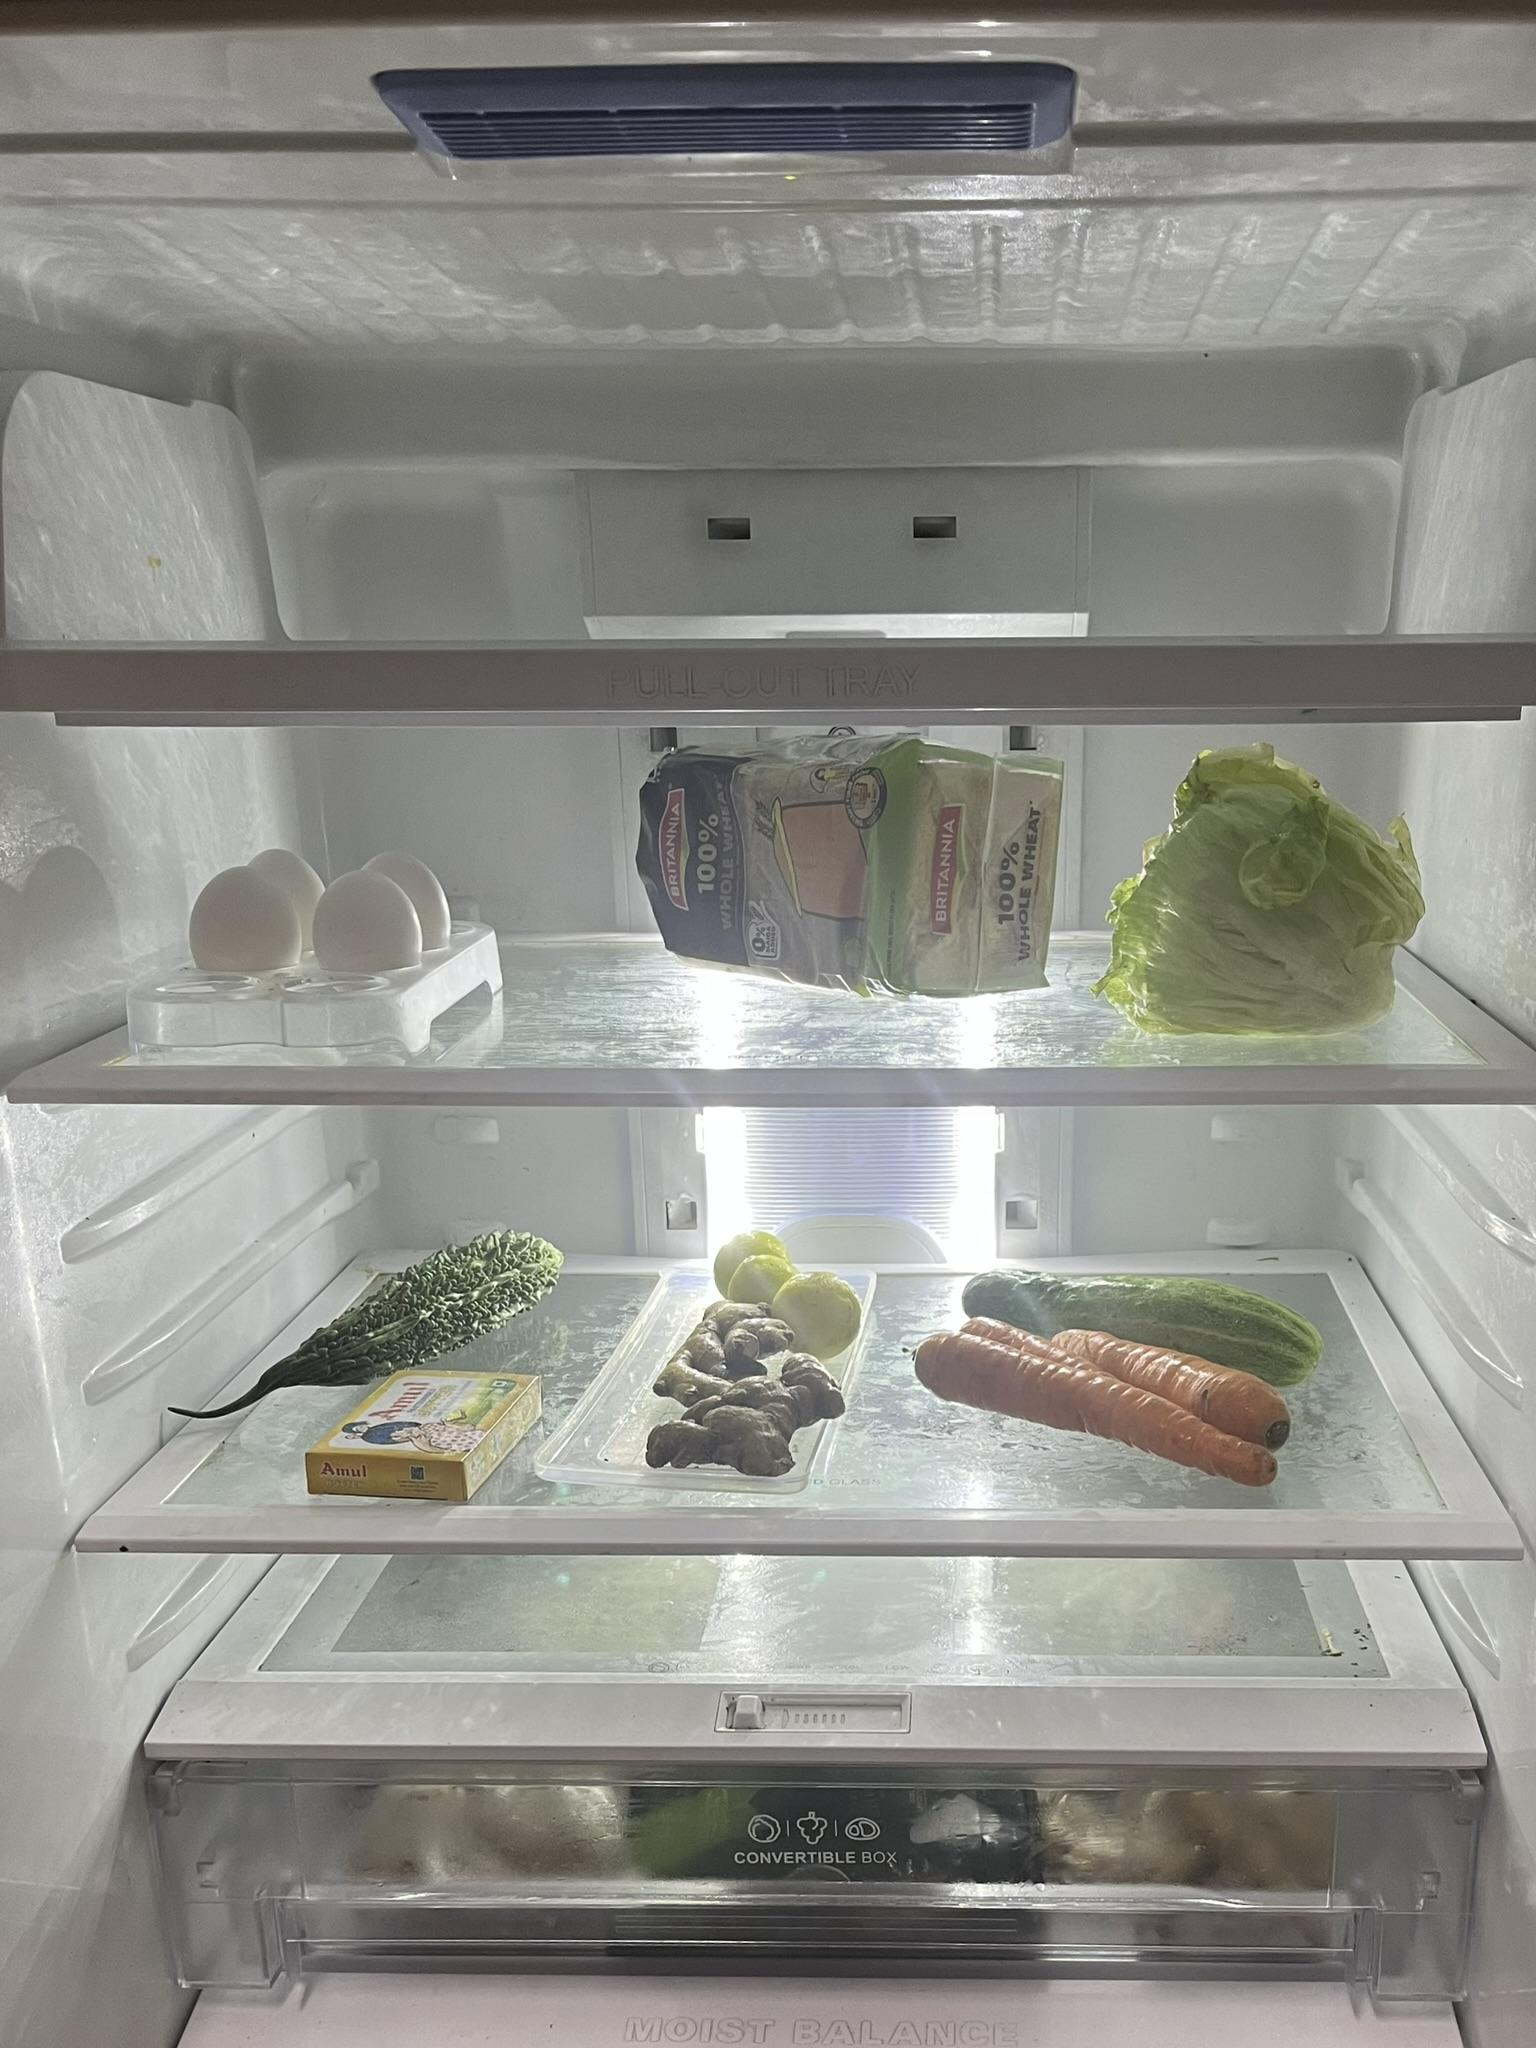bitter gaurd: (187, 1224, 563, 1427)
bread: (623, 727, 1070, 1003)
butter: (307, 1359, 544, 1509)
carrots: (913, 1324, 1297, 1493)
cucumber: (954, 1271, 1341, 1371)
egg: (181, 847, 463, 993)
ginger: (647, 1321, 837, 1484)
lemon: (703, 1234, 873, 1353)
lettuce: (1100, 740, 1439, 1040)
